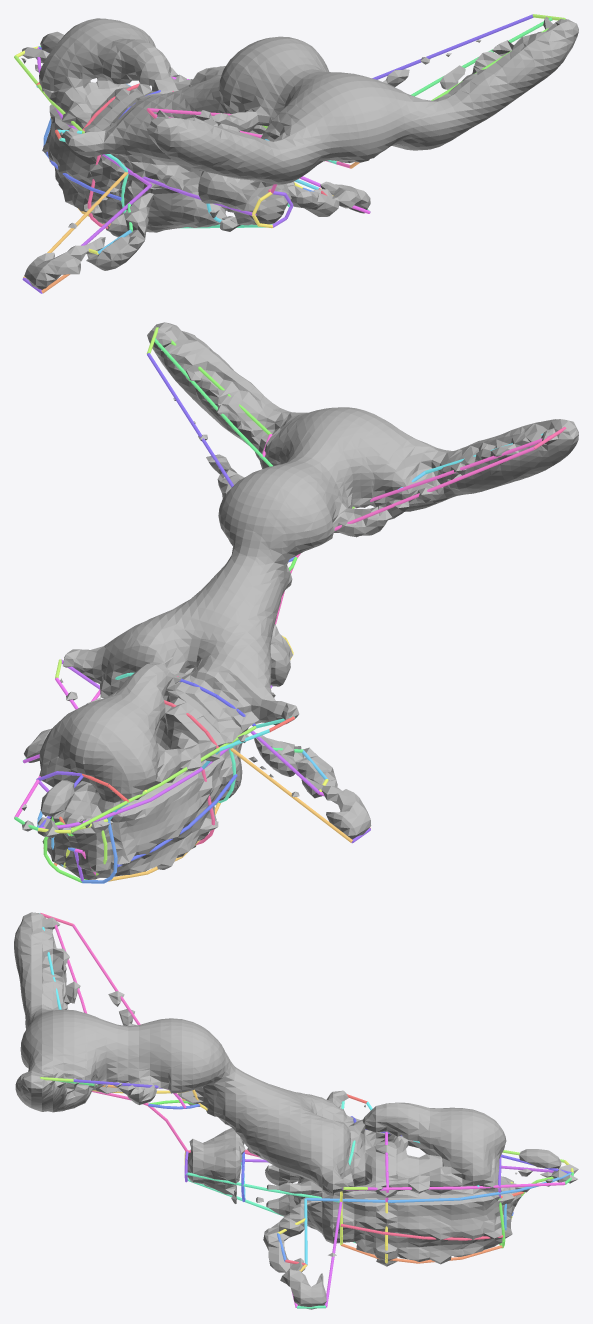
File: ils_spacecraft_29.gltf
3 views of the same model, one above another, from view 1: azimuth 30°, elevation 25°; view 2: azimuth 150°, elevation 25°; view 3: azimuth 270°, elevation 25° (orthographic). The views are drawn at different scales.
Bounding box in the file's own units: 0.5656 × 0.4008 × 0.7865.
